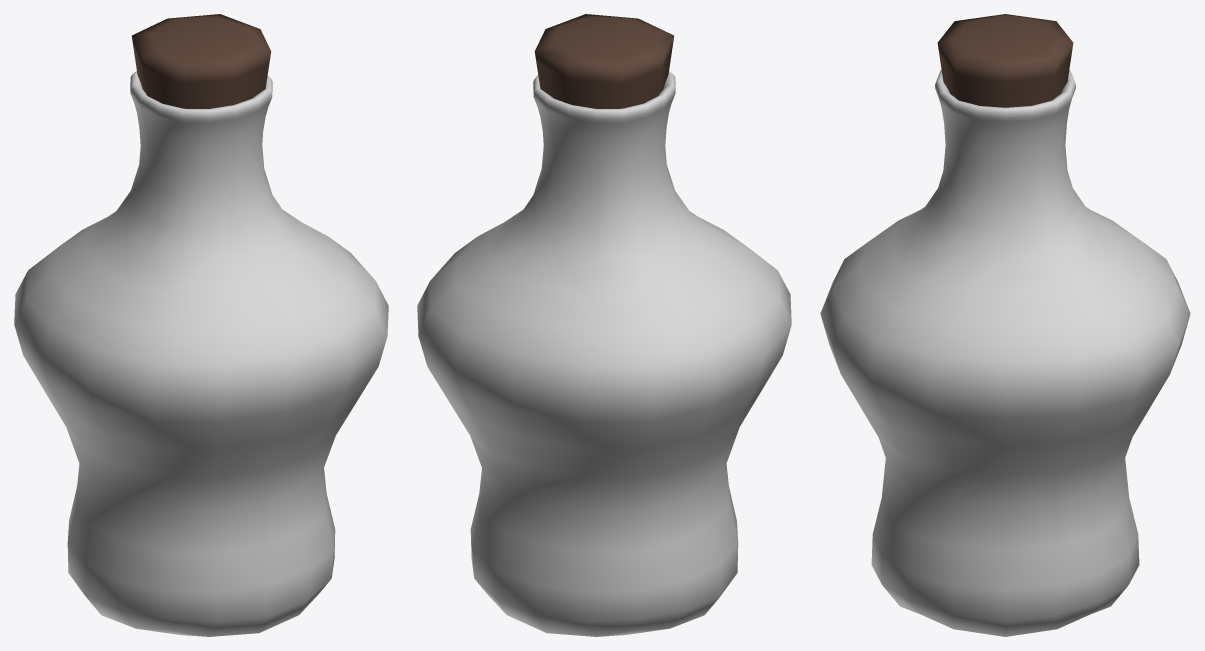
Rendered from Potion3_Empty.glb.
3 views of the same model, side by side, from view 1: azimuth 30°, elevation 25°; view 2: azimuth 150°, elevation 25°; view 3: azimuth 270°, elevation 25° (orthographic).
Parts seen in each view (by area): view 1: Potion3_Empty_Cube.134; view 2: Potion3_Empty_Cube.134; view 3: Potion3_Empty_Cube.134.
Part boxes in pixels (x1,y1,x2,y2): Potion3_Empty_Cube.134: (14,14,388,636); Potion3_Empty_Cube.134: (417,14,791,636); Potion3_Empty_Cube.134: (820,14,1190,636).
Bounding box in the file's own units: 0.7186 × 1.22 × 0.7186.
